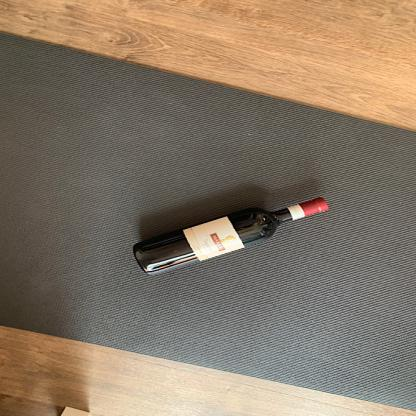trash: (134, 192, 328, 281)
